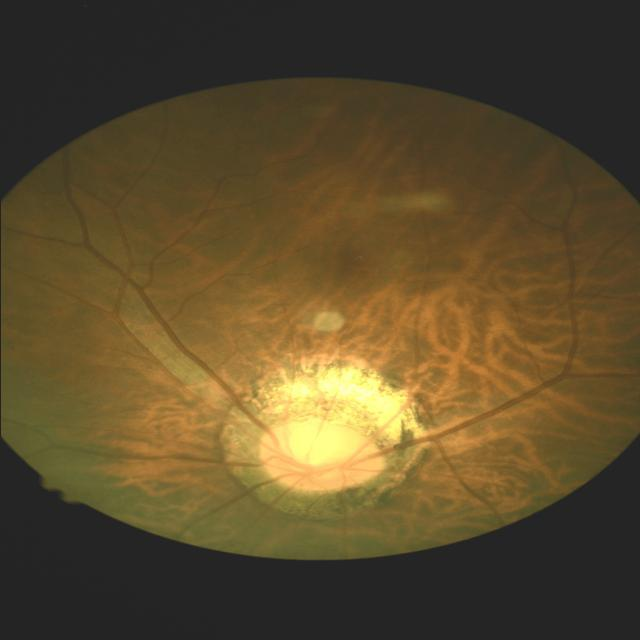cup: (279, 432, 362, 481)
disk: (258, 421, 384, 494)
